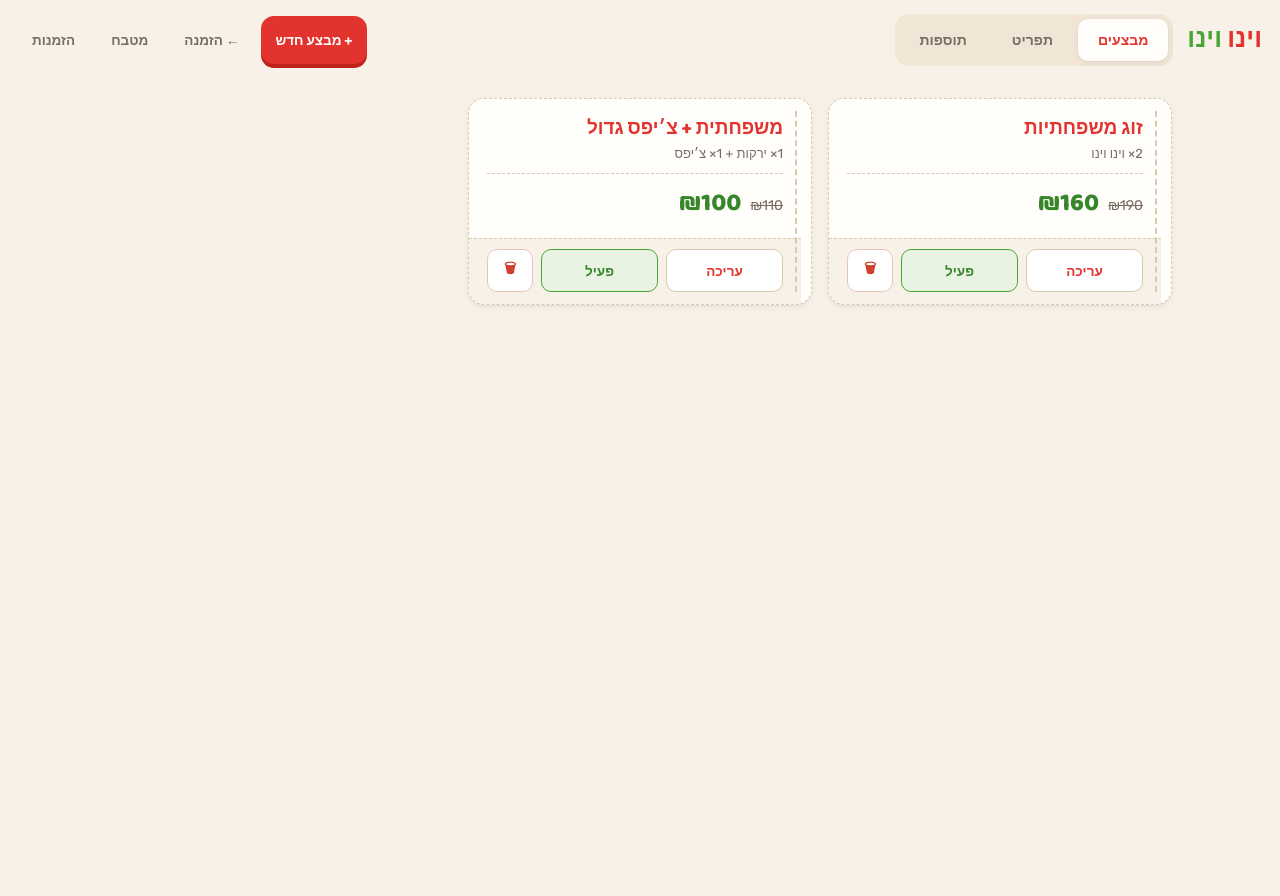
admin page tabs › shows the deals list by default and switches to the menu tab
The image size is (1280, 896).
Expected: the text "זוג משפחתיות" is shown, [1024,114,1143,144]
Click the tab "תפריט". click: (1032,40)
box: [992,19,1073,61]
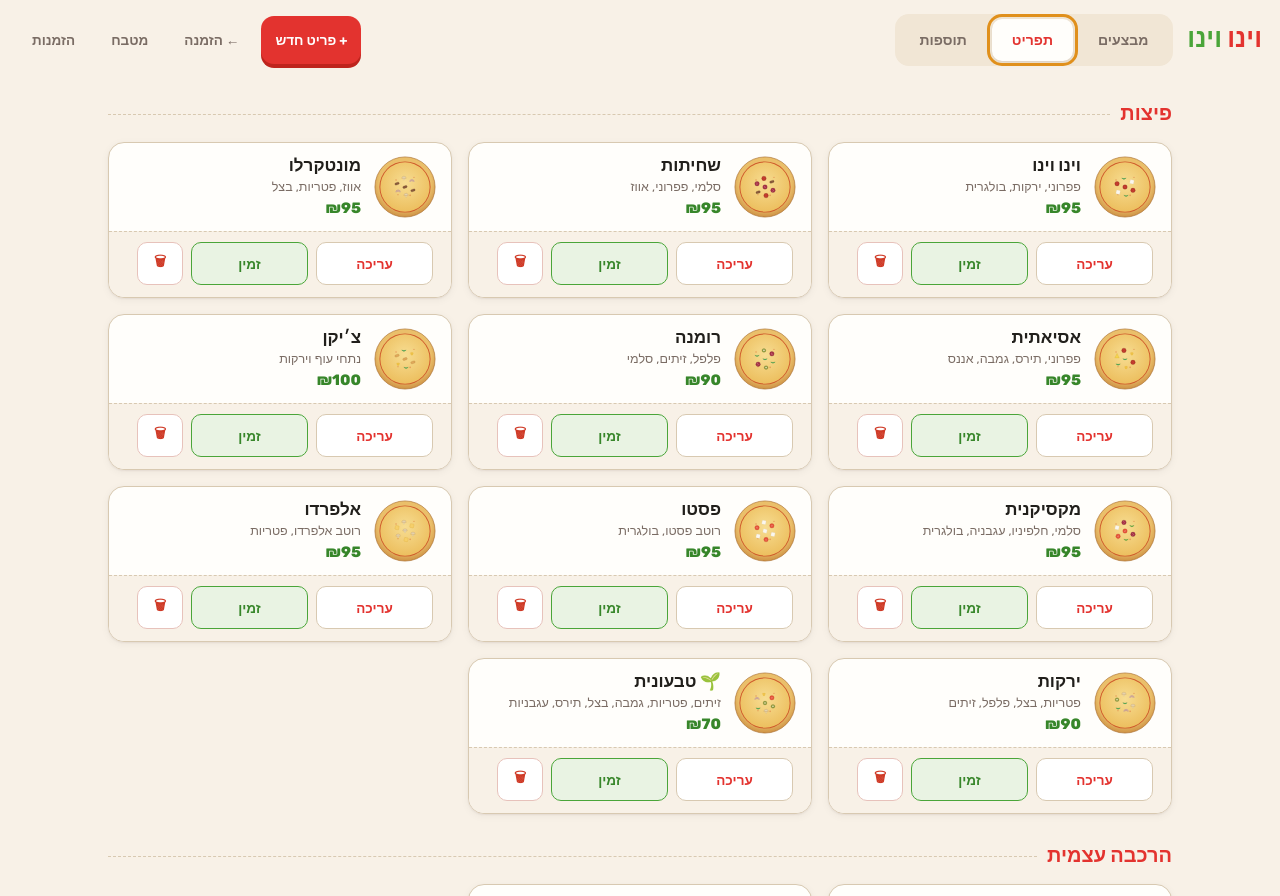
Expected: the text "וינו וינו" is shown, [1032,153,1081,180]
Expected: the heading "פיצות" is shown, [1120,98,1172,130]
